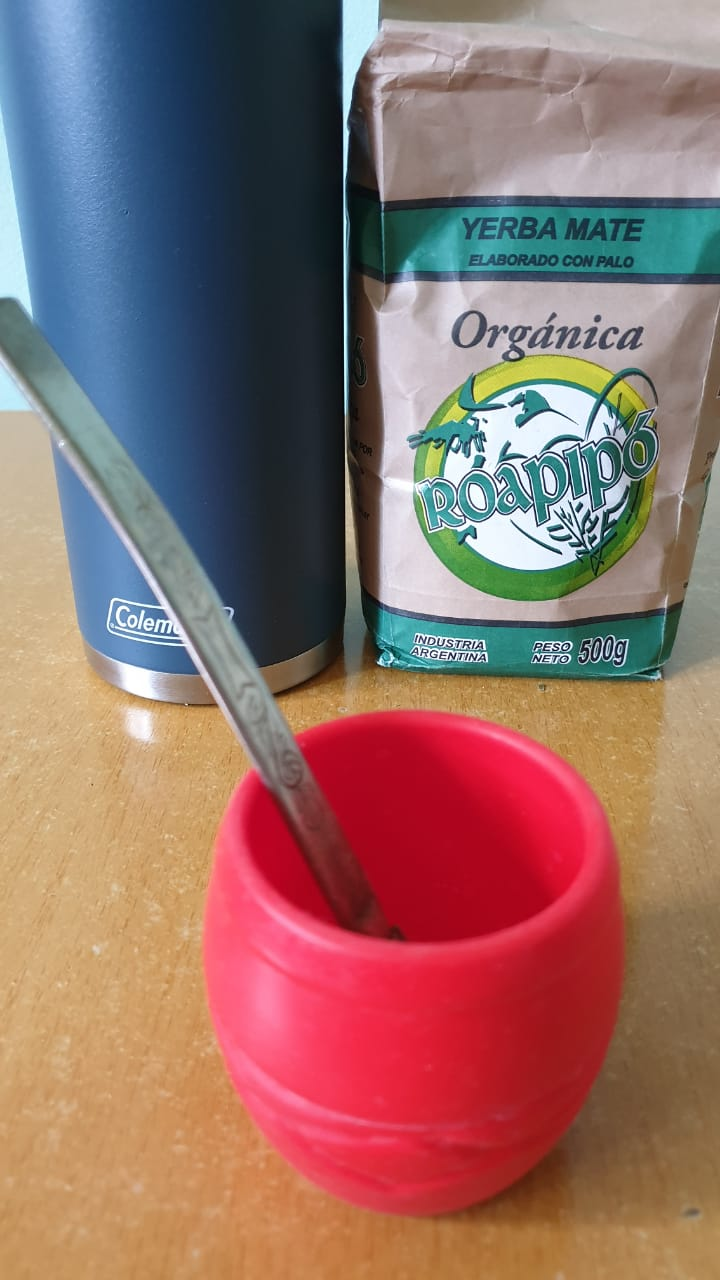mate: (190, 692, 639, 1211)
plastico: (198, 703, 649, 1224)
